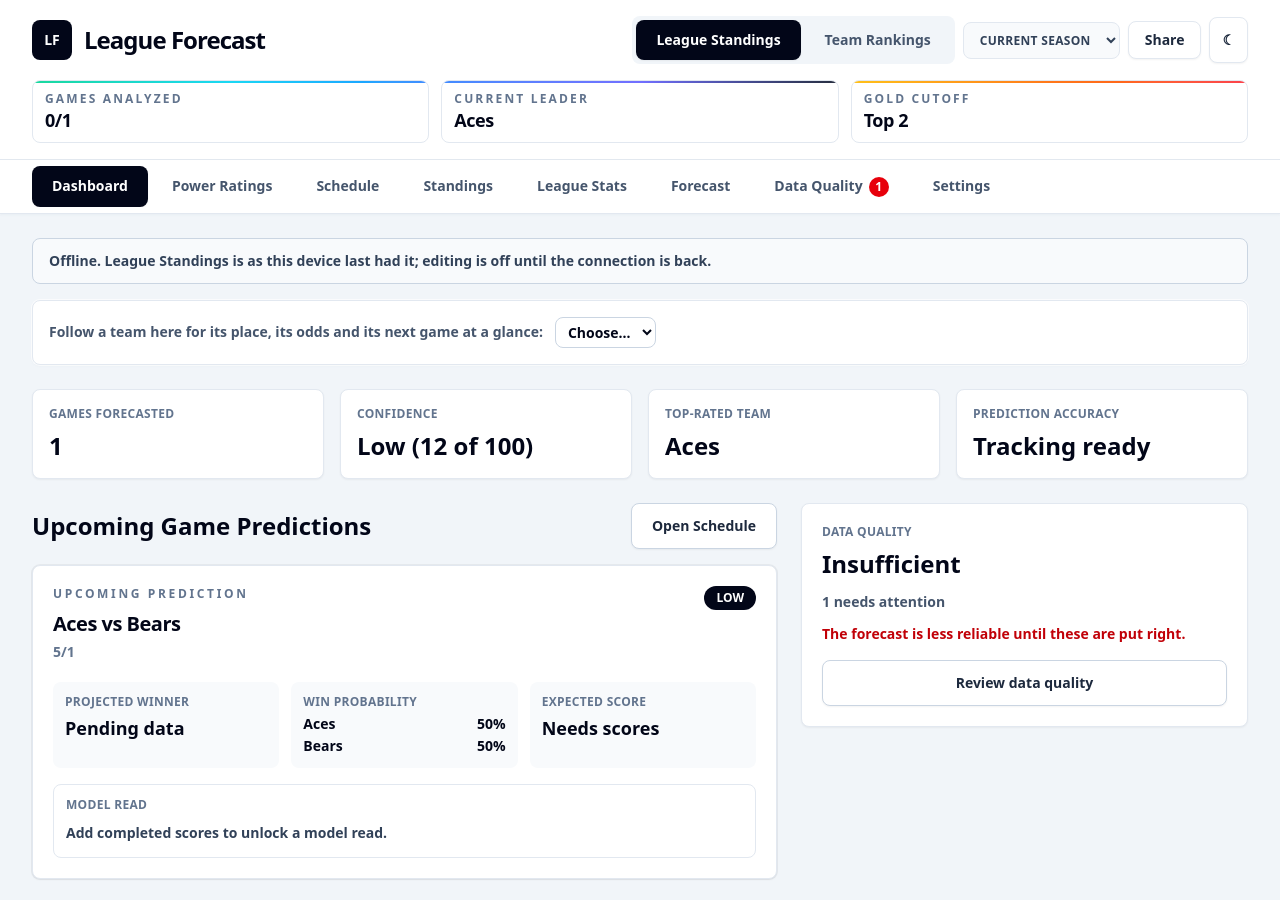
Test: League Standings kept live, on the page › keeps what only reads the season usable while read-only, and offers no rename
This screenshot has width=1280, height=900.
Click the tab "Standings" at (458, 186), box left=403, top=166, right=513, bottom=206
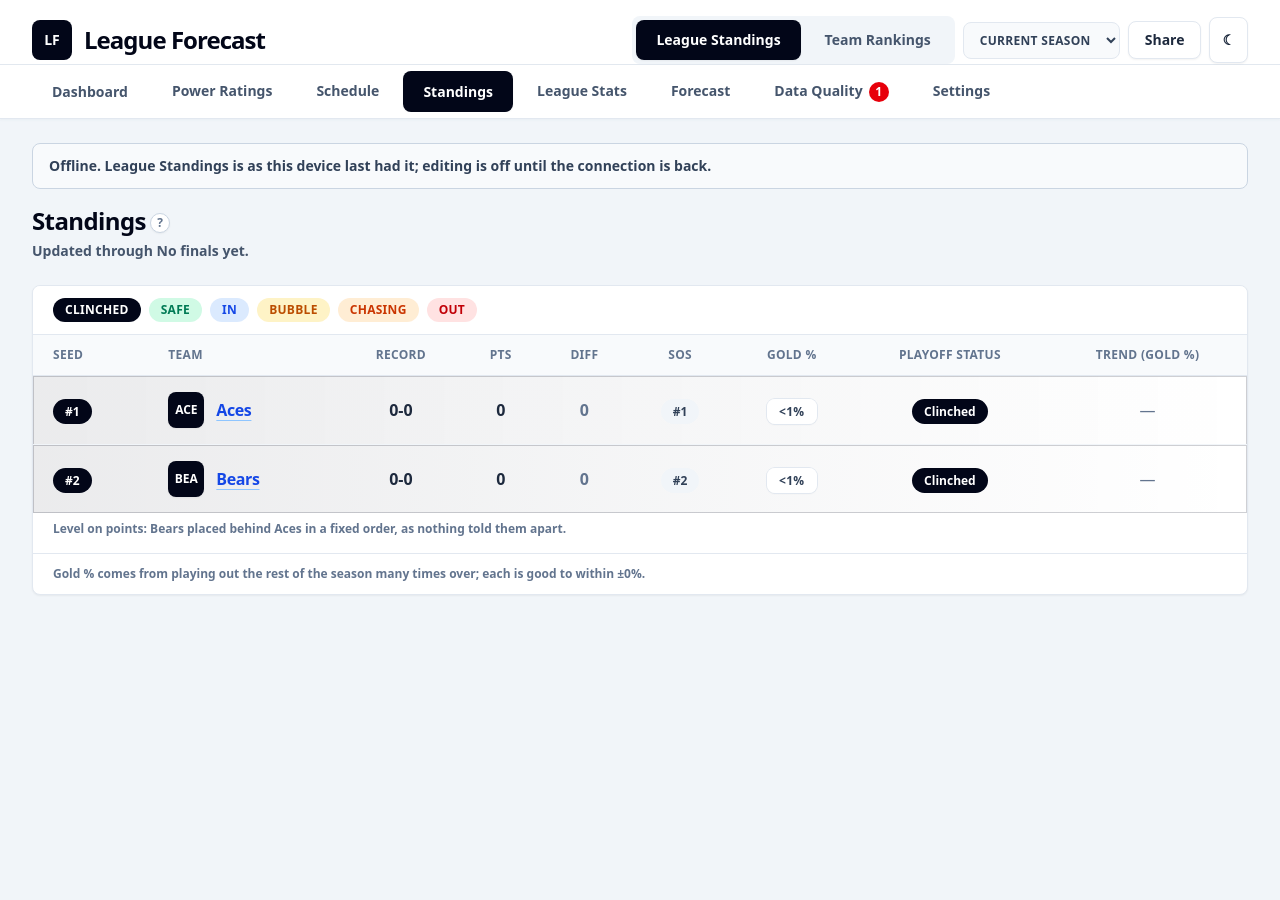
Click the link with aria-label "View stats for Aces" at (186, 410), box left=168, top=392, right=251, bottom=428
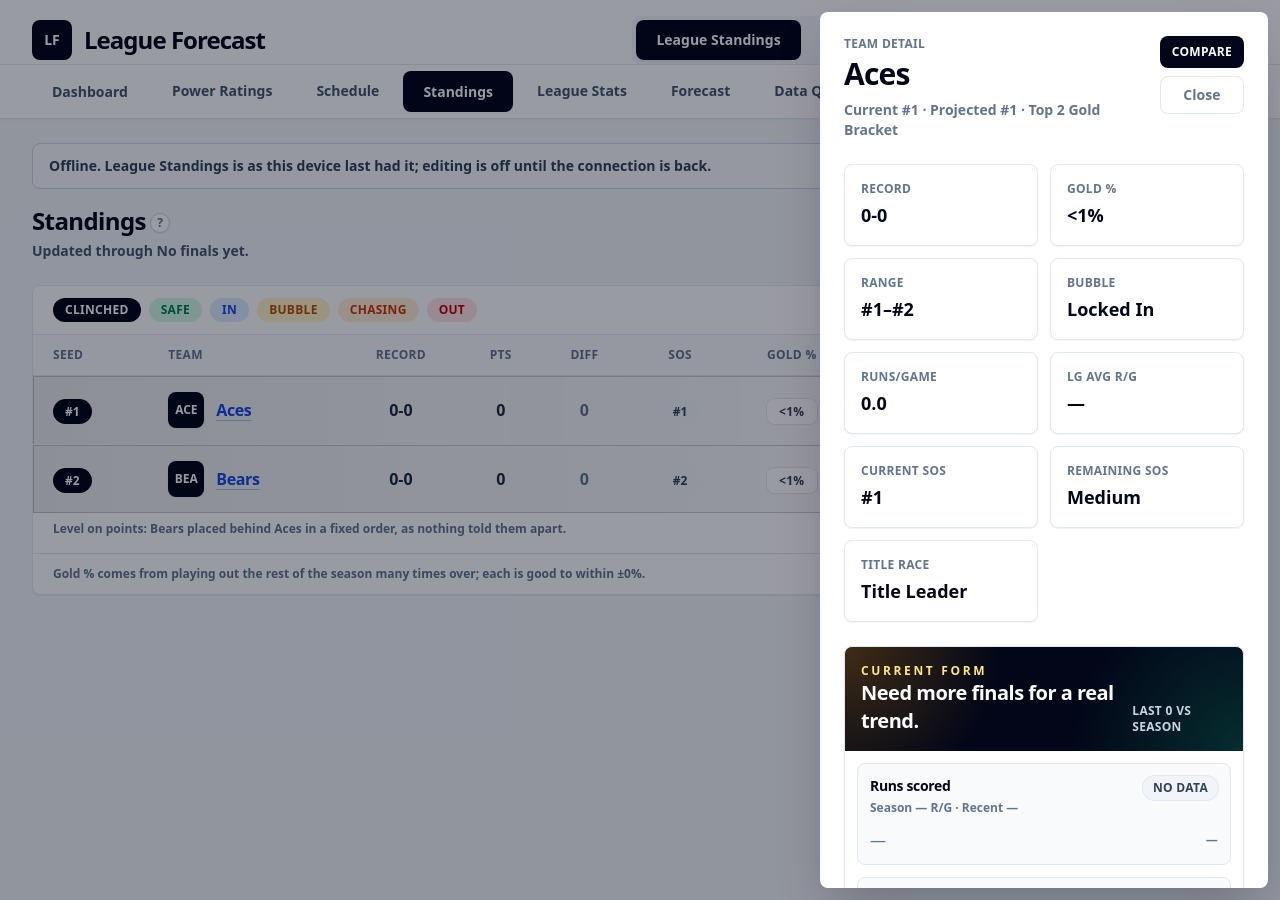
Click the button "Close" at (1202, 95), box left=1160, top=76, right=1244, bottom=114
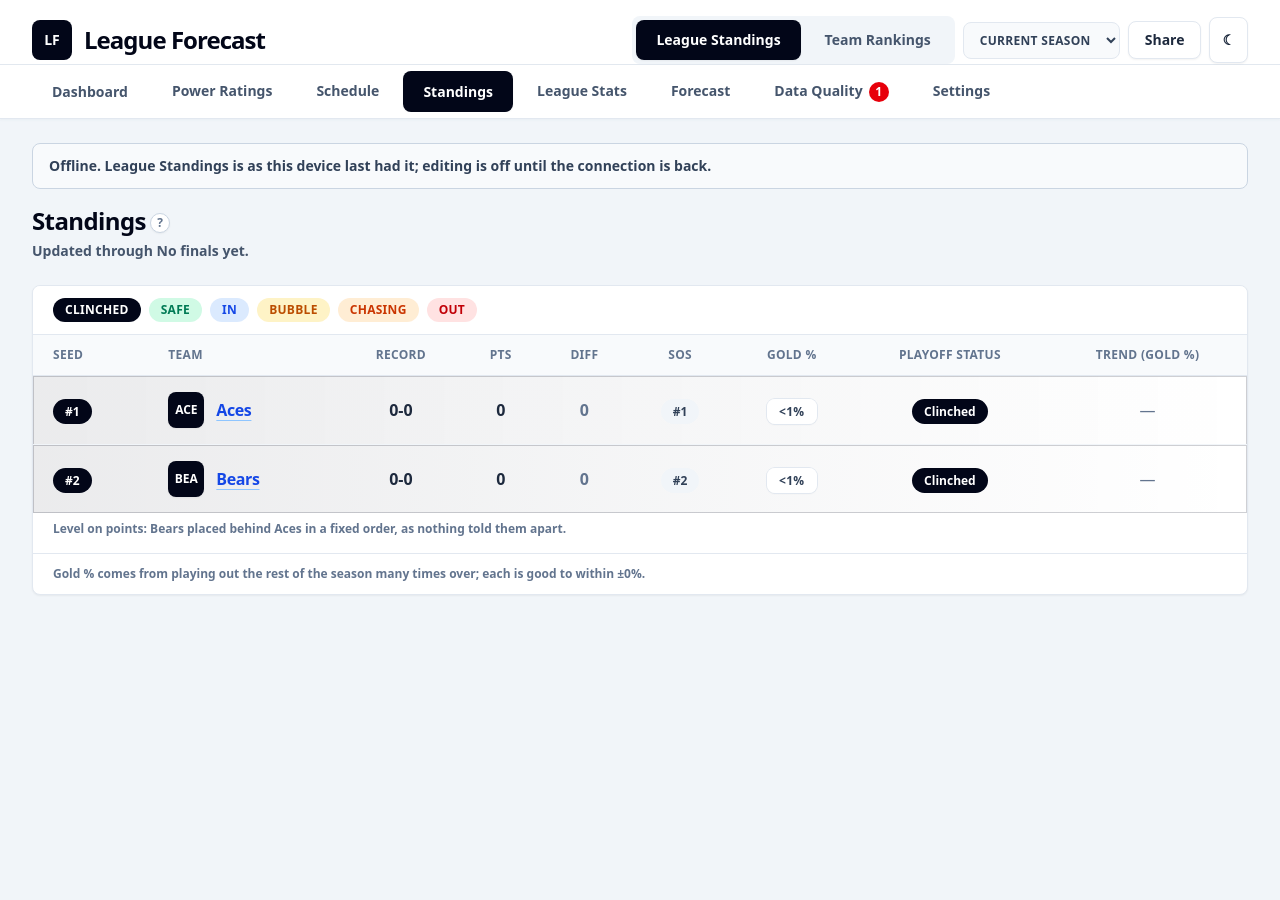
Click the tab "Settings" at (961, 92), box left=913, top=71, right=1010, bottom=112
(page scrolled)
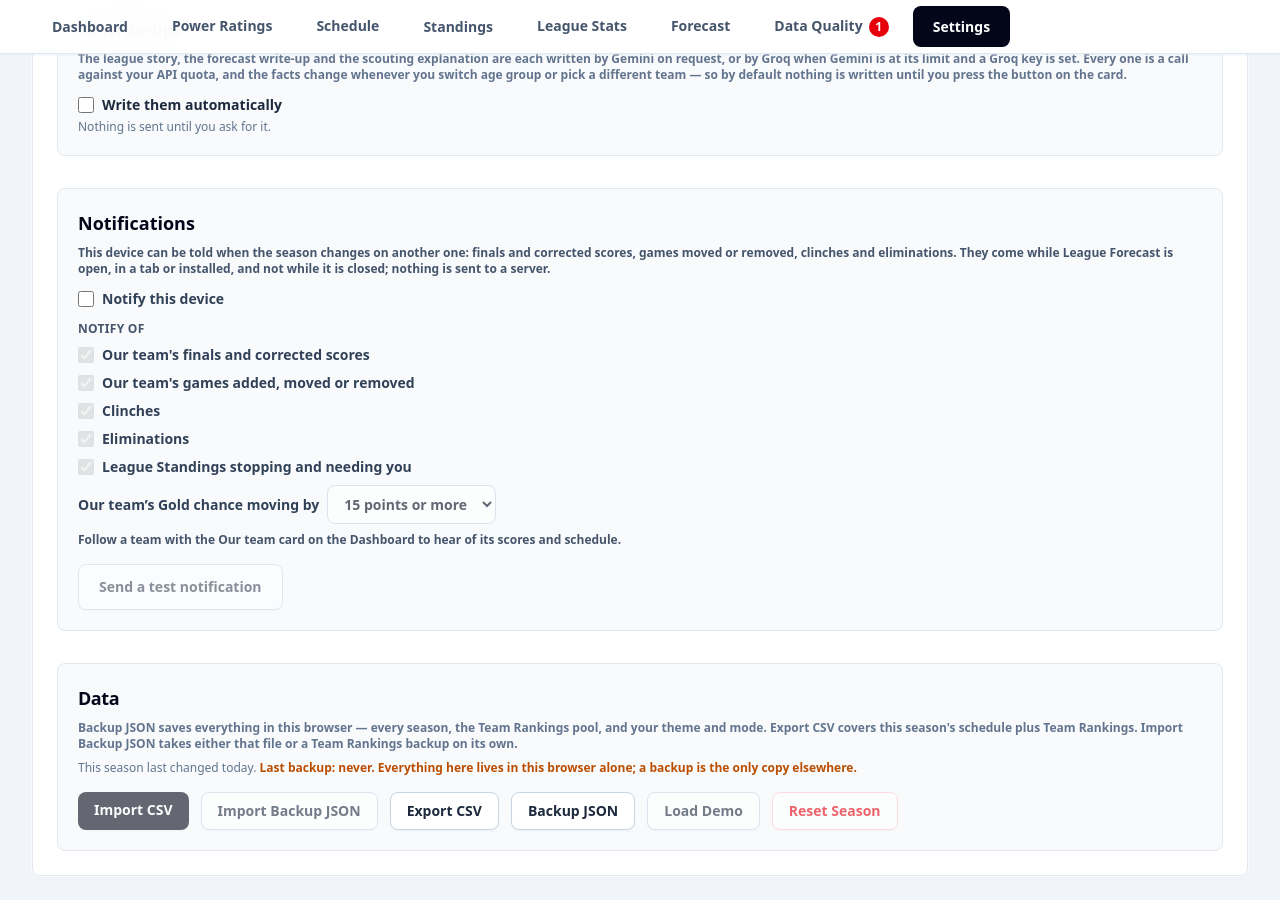
Expected: the button "Export CSV" is enabled, left=390, top=792, right=499, bottom=830
Expected: the button "Backup JSON" is enabled, left=511, top=792, right=635, bottom=830
Expected: the file field named "Import schedule CSV" is disabled, left=78, top=792, right=188, bottom=830
